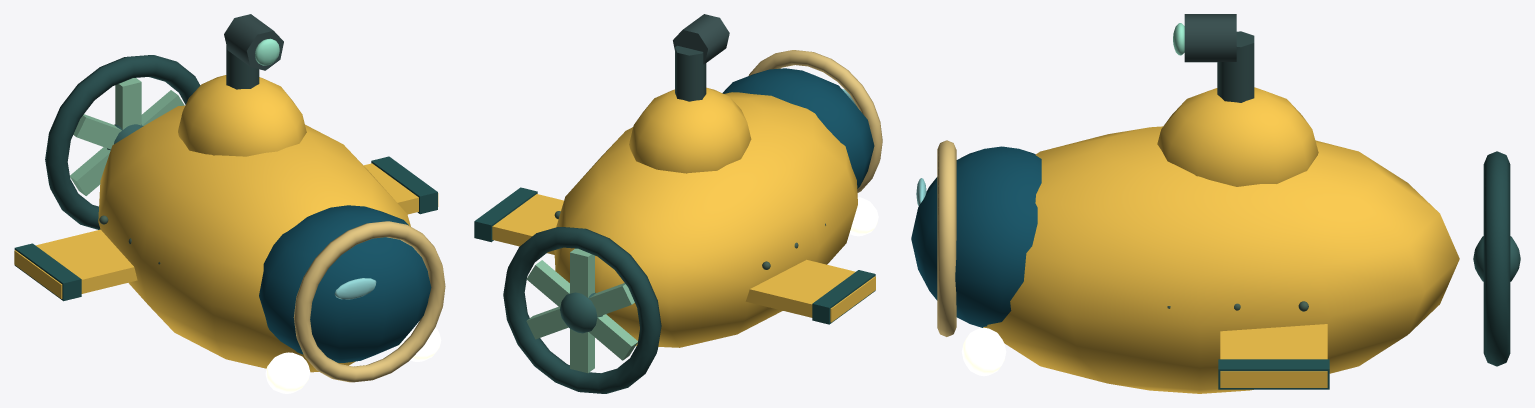
Rendered from submarine.glb.
The picture shows the model from 3 angles, left to right: view 1: azimuth 30°, elevation 25°; view 2: azimuth 150°, elevation 25°; view 3: azimuth 270°, elevation 25°; orthographic projection. The views are drawn at different scales.
Parts seen in each view (by area): view 1: paint-hull, canopy, paint-turret, porthole-rim, propeller-guard, paint-fin (×2), blade (×3), fin-tip (×2), headlight (×2), scope-head, periscope, canopy-glint (+1 smaller); view 2: paint-hull, propeller-guard, paint-turret, paint-fin (×2), blade (×3), canopy, porthole-rim, fin-tip (×2), scope-head, periscope, hub, headlight; view 3: paint-hull, canopy, paint-turret, propeller-guard, paint-fin, porthole-rim, scope-head, periscope, fin-tip, headlight, hub.
Part boxes in pixels (bbox=[...]): paint-hull: bbox=[98, 105, 410, 372]; canopy: bbox=[259, 205, 431, 362]; paint-turret: bbox=[178, 75, 306, 156]; porthole-rim: bbox=[293, 221, 445, 382]; propeller-guard: bbox=[45, 55, 200, 229]; paint-fin (×2): bbox=[14, 163, 438, 298]; blade (×3): bbox=[70, 78, 184, 195]; fin-tip (×2): bbox=[14, 156, 437, 301]; headlight (×2): bbox=[265, 321, 441, 393]; scope-head: bbox=[224, 14, 283, 70]; periscope: bbox=[226, 45, 259, 89]; canopy-glint: bbox=[334, 278, 376, 299]; paint-hull: bbox=[554, 92, 857, 347]; propeller-guard: bbox=[503, 227, 661, 393]; paint-turret: bbox=[629, 87, 751, 173]; paint-fin (×2): bbox=[492, 194, 875, 322]; blade (×3): bbox=[526, 248, 637, 372]; canopy: bbox=[722, 68, 874, 188]; porthole-rim: bbox=[748, 50, 882, 192]; fin-tip (×2): bbox=[474, 187, 875, 324]; scope-head: bbox=[673, 14, 729, 64]; periscope: bbox=[675, 45, 706, 101]; hub: bbox=[560, 292, 602, 333]; headlight: bbox=[849, 197, 878, 236]; paint-hull: bbox=[983, 126, 1459, 393]; canopy: bbox=[911, 146, 1041, 327]; paint-turret: bbox=[1157, 87, 1318, 186]; propeller-guard: bbox=[1483, 151, 1510, 366]; paint-fin: bbox=[1220, 324, 1327, 387]; porthole-rim: bbox=[937, 140, 956, 336]; scope-head: bbox=[1184, 14, 1236, 62]; periscope: bbox=[1217, 31, 1254, 102]; fin-tip: bbox=[1218, 359, 1329, 389]; headlight: bbox=[961, 327, 1006, 376]; hub: bbox=[1473, 236, 1520, 281].
Bounding box in the file's own units: 3.34 × 2.66 × 4.1.
